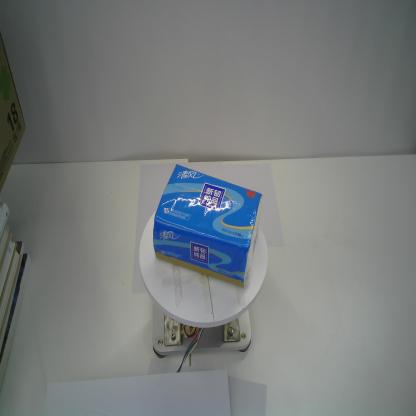Tissue: (152, 163, 263, 290)
